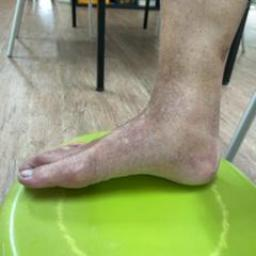Medial View -Right Foot-: (3, 57, 233, 210)
